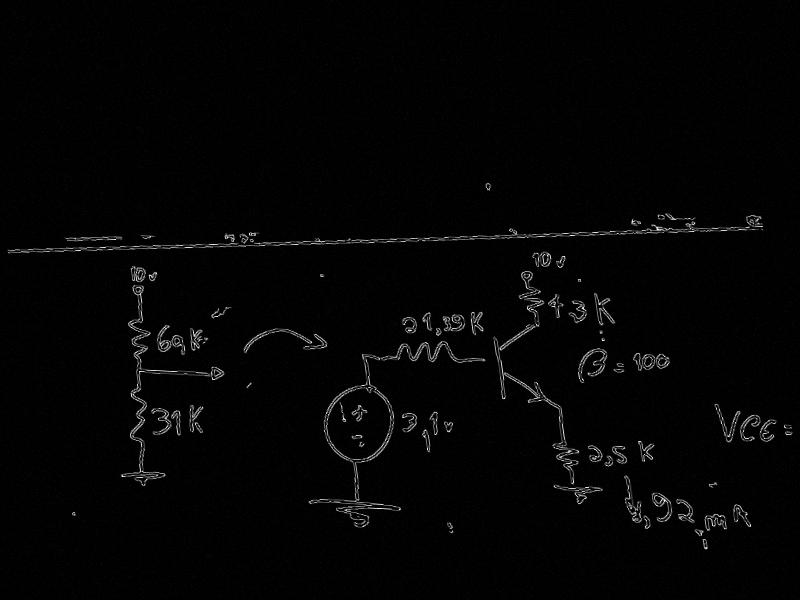-: (350, 432, 364, 442), (612, 367, 625, 374), (781, 423, 792, 430), (782, 430, 793, 437), (615, 362, 626, 368)
0: (653, 352, 672, 371), (639, 353, 658, 371), (538, 250, 554, 269), (133, 266, 149, 284)
1: (426, 410, 442, 437), (170, 409, 185, 437), (420, 311, 434, 332), (630, 350, 643, 372), (128, 264, 138, 282), (531, 252, 541, 267)
2: (673, 497, 698, 525), (400, 315, 419, 335), (585, 444, 604, 463)
3: (146, 406, 175, 437), (565, 299, 590, 325), (398, 410, 421, 435), (440, 315, 453, 333)
4: (546, 293, 566, 320)
5: (610, 444, 628, 465)
6: (648, 490, 676, 523), (153, 324, 173, 354)
9: (170, 334, 188, 356), (448, 312, 467, 332)
A: (730, 503, 753, 530)
V: (713, 403, 746, 445), (553, 253, 568, 270), (146, 270, 161, 283), (443, 421, 455, 434)
k: (592, 292, 617, 328), (185, 403, 209, 436), (187, 326, 207, 353), (636, 439, 658, 463), (468, 310, 488, 336)
m: (702, 512, 729, 534)
